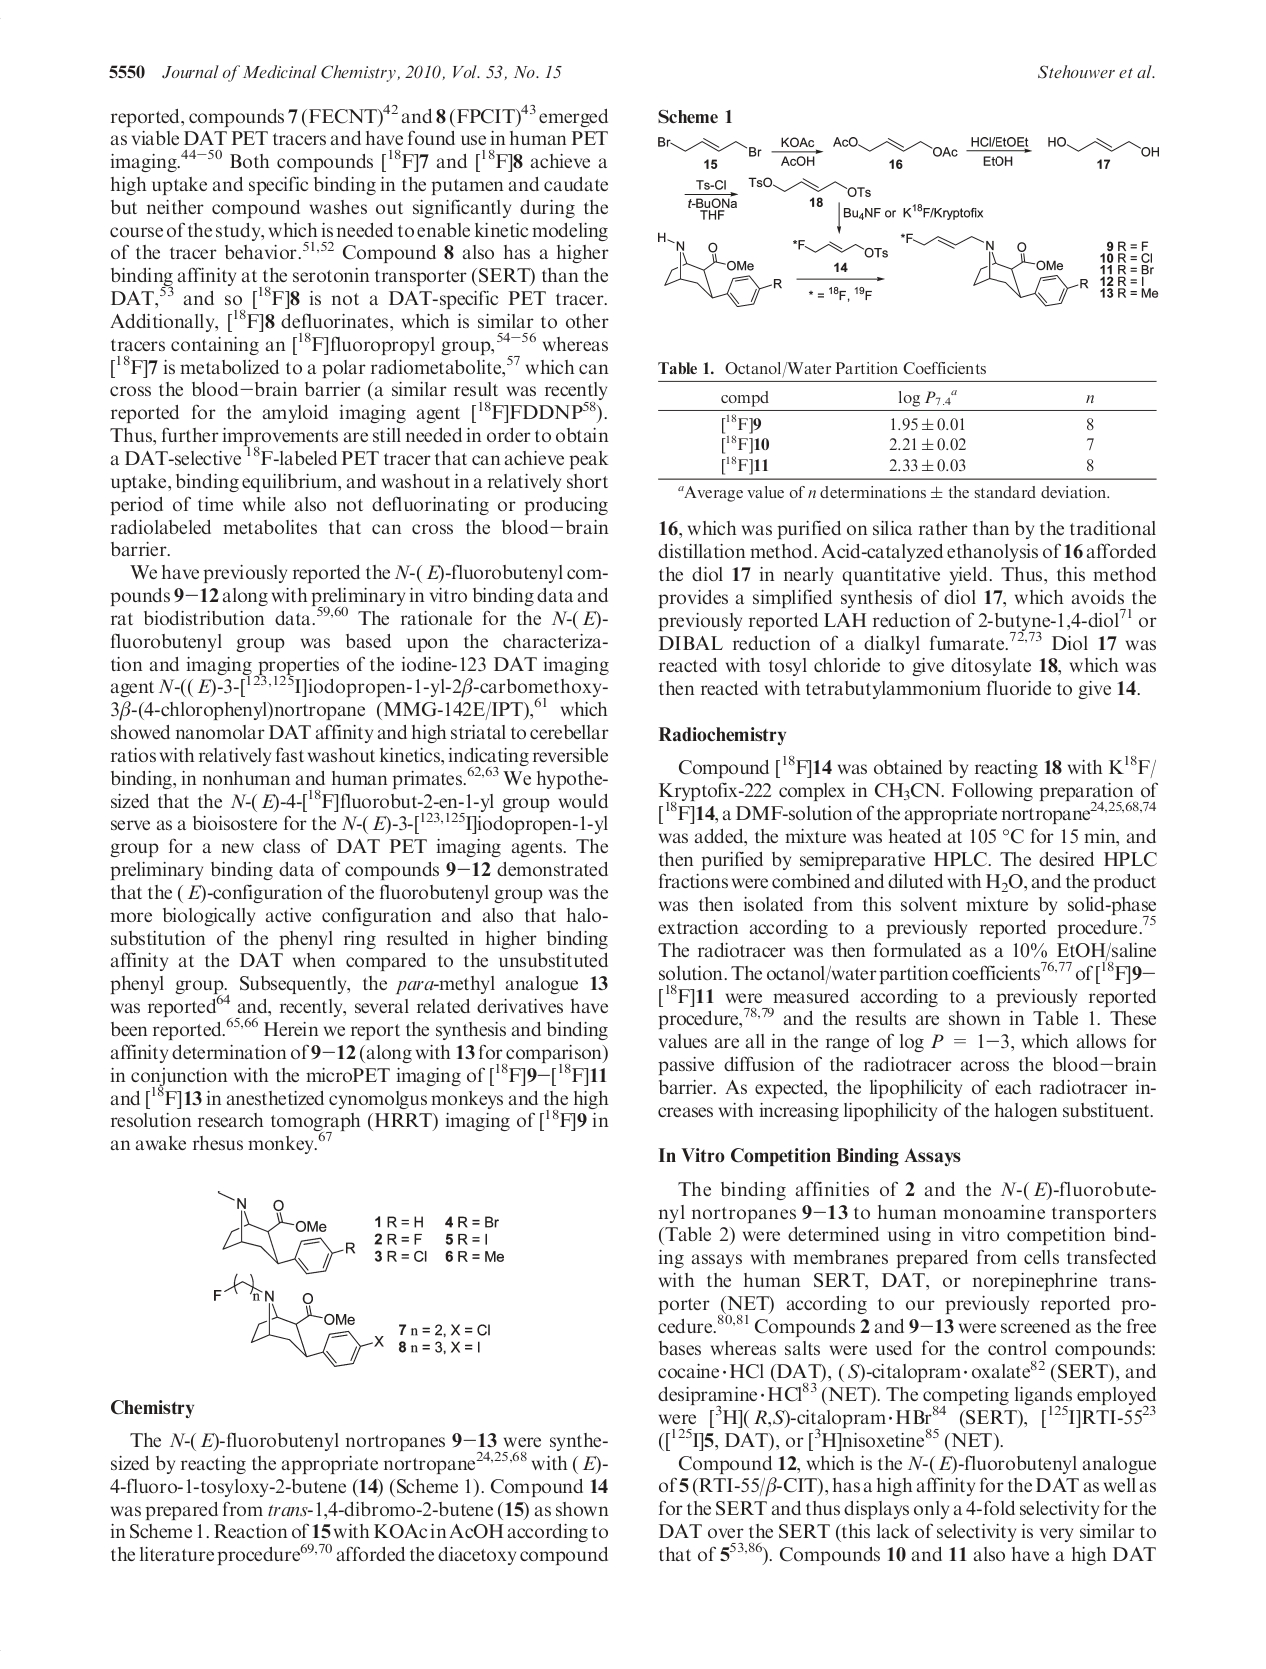exist_molecular: (207, 1270, 388, 1368), (898, 230, 1090, 309), (214, 1188, 356, 1277), (650, 229, 785, 307), (830, 132, 961, 160), (747, 172, 875, 199), (1047, 132, 1162, 157), (652, 136, 765, 161)
